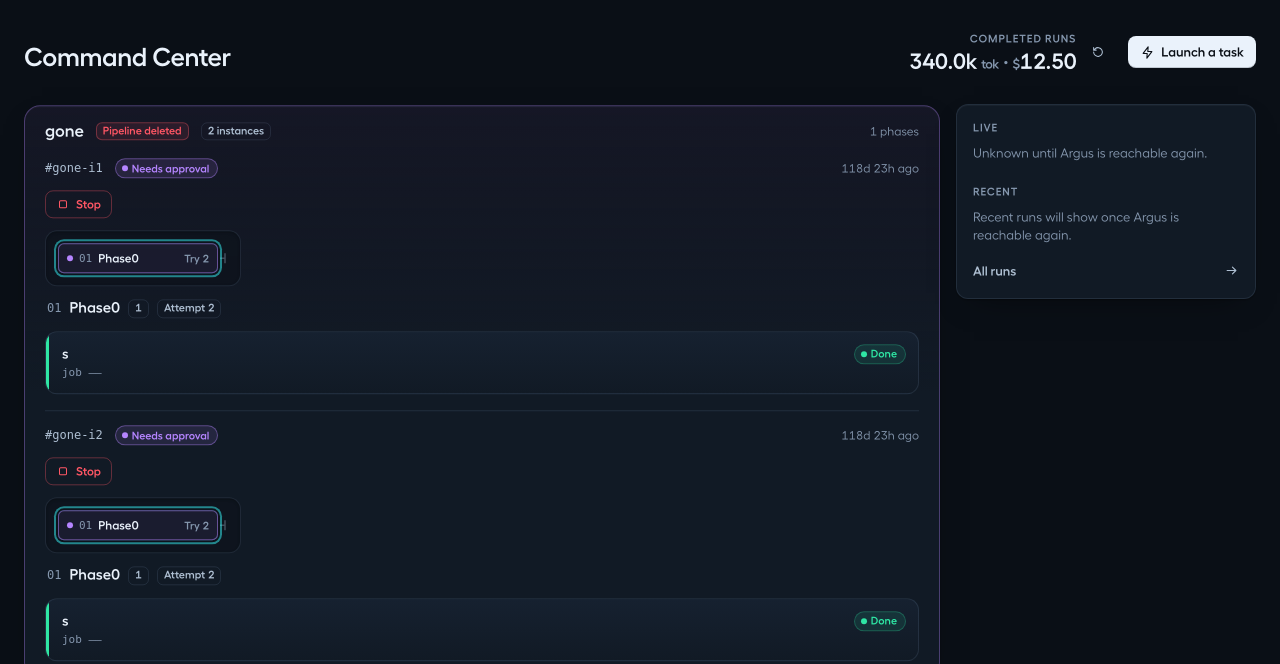
Test: an instance whose pipeline was deleted › shows a failed stop under that instance's row only
Click the button "Stop" at {"x": 78, "y": 470}, box x1=45 y1=456 x2=112 y2=484
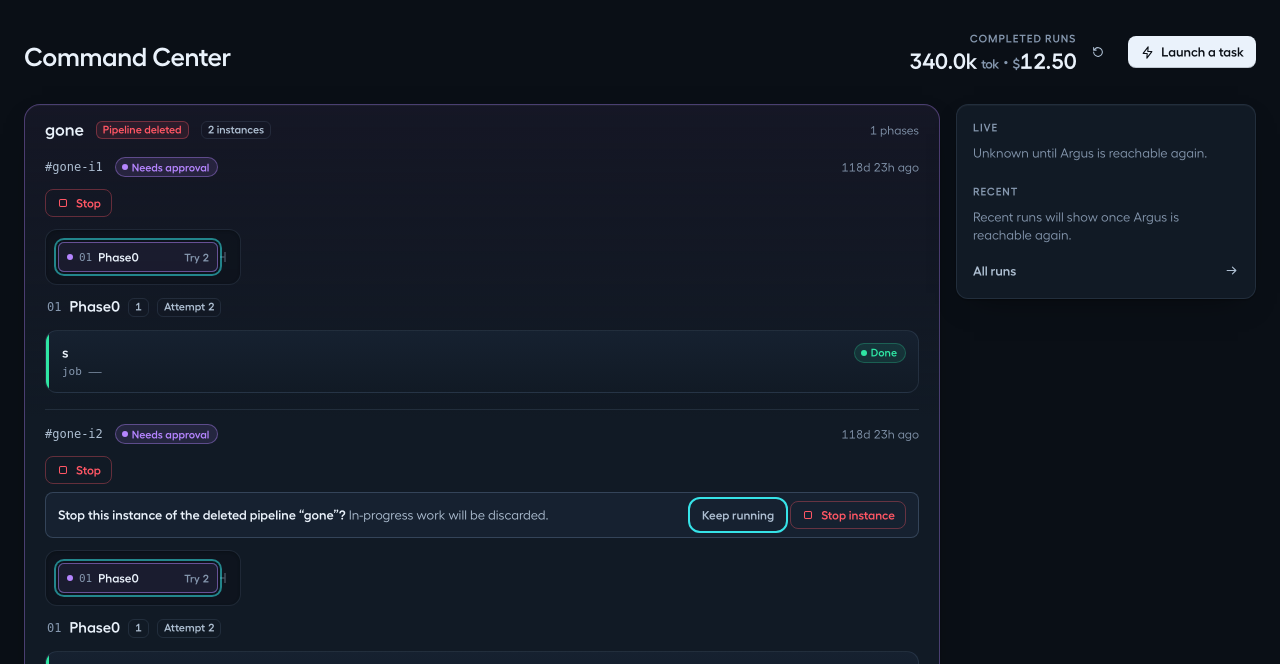
Click the button "Stop instance" at {"x": 848, "y": 515}, box x1=790 y1=501 x2=906 y2=529
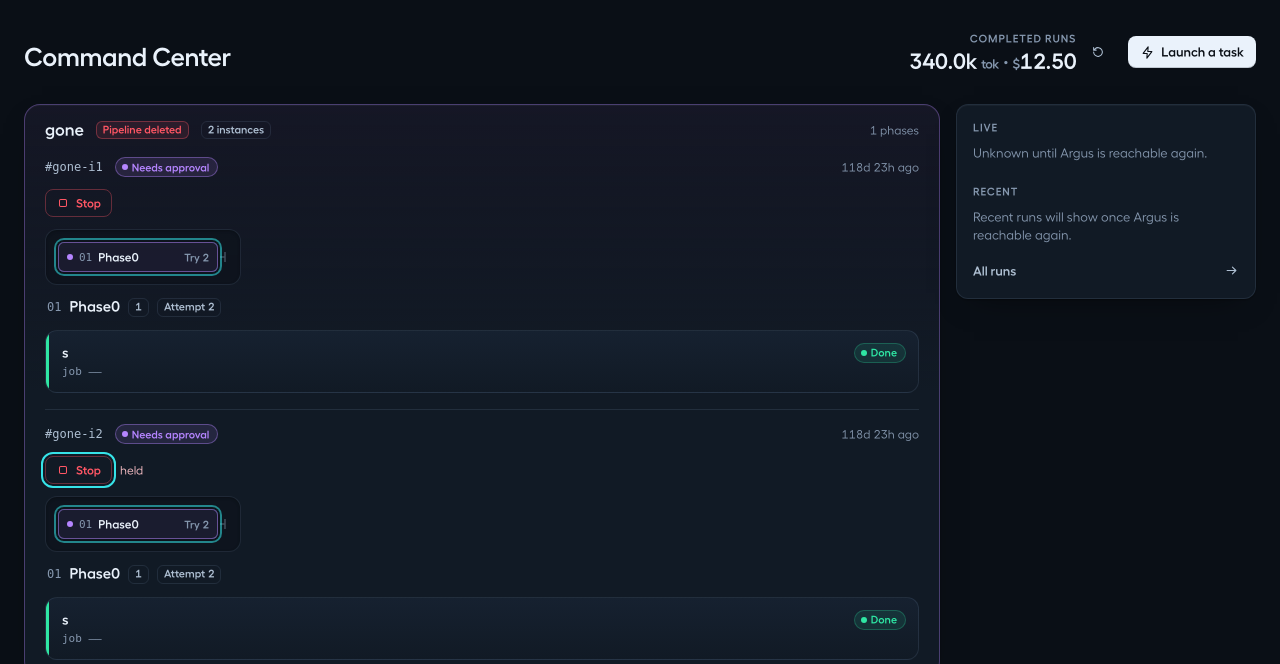
Now the text "held" is shown once, box x1=120 y1=462 x2=143 y2=479
